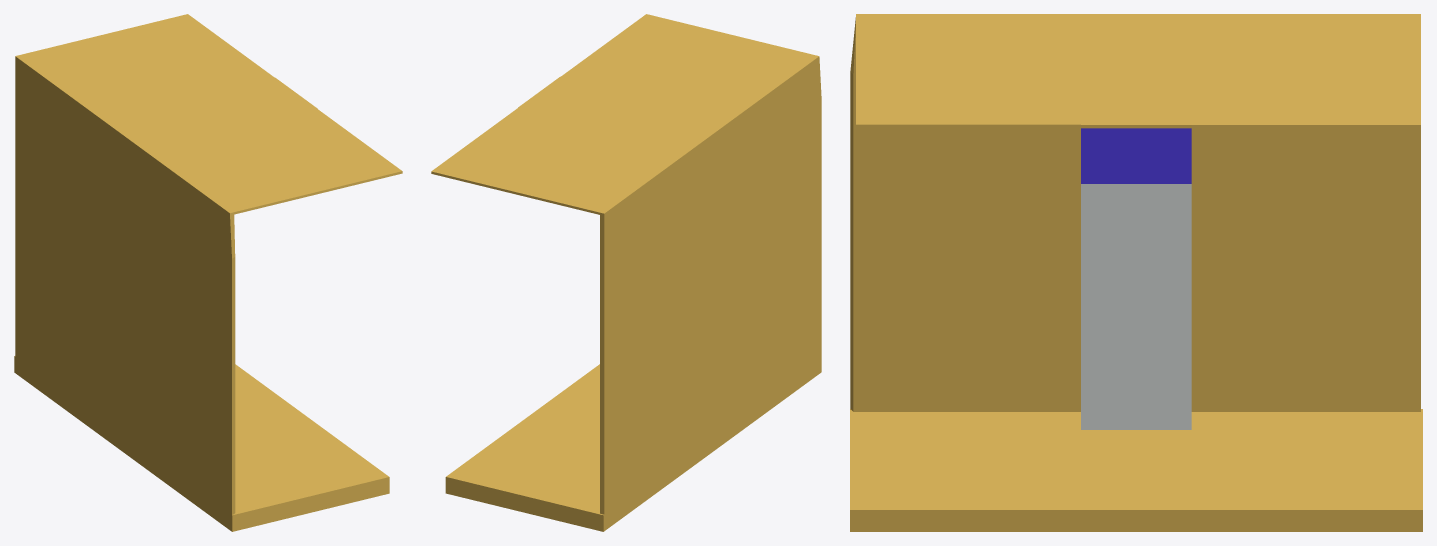
The model's file is Beam.fbx.
3 renders of one model, left to right at view 1: azimuth 30°, elevation 25°; view 2: azimuth 150°, elevation 25°; view 3: azimuth 270°, elevation 25°, orthographic. The views are drawn at different scales.
Visible parts, largest first — view 1: Cube; view 2: Cube; view 3: Cube.
Part boxes in pixels (bbox=[...]): Cube: bbox=[14, 14, 402, 531]; Cube: bbox=[431, 14, 821, 531]; Cube: bbox=[850, 14, 1422, 531].
Bounding box in the file's own units: 417 × 722 × 898.
